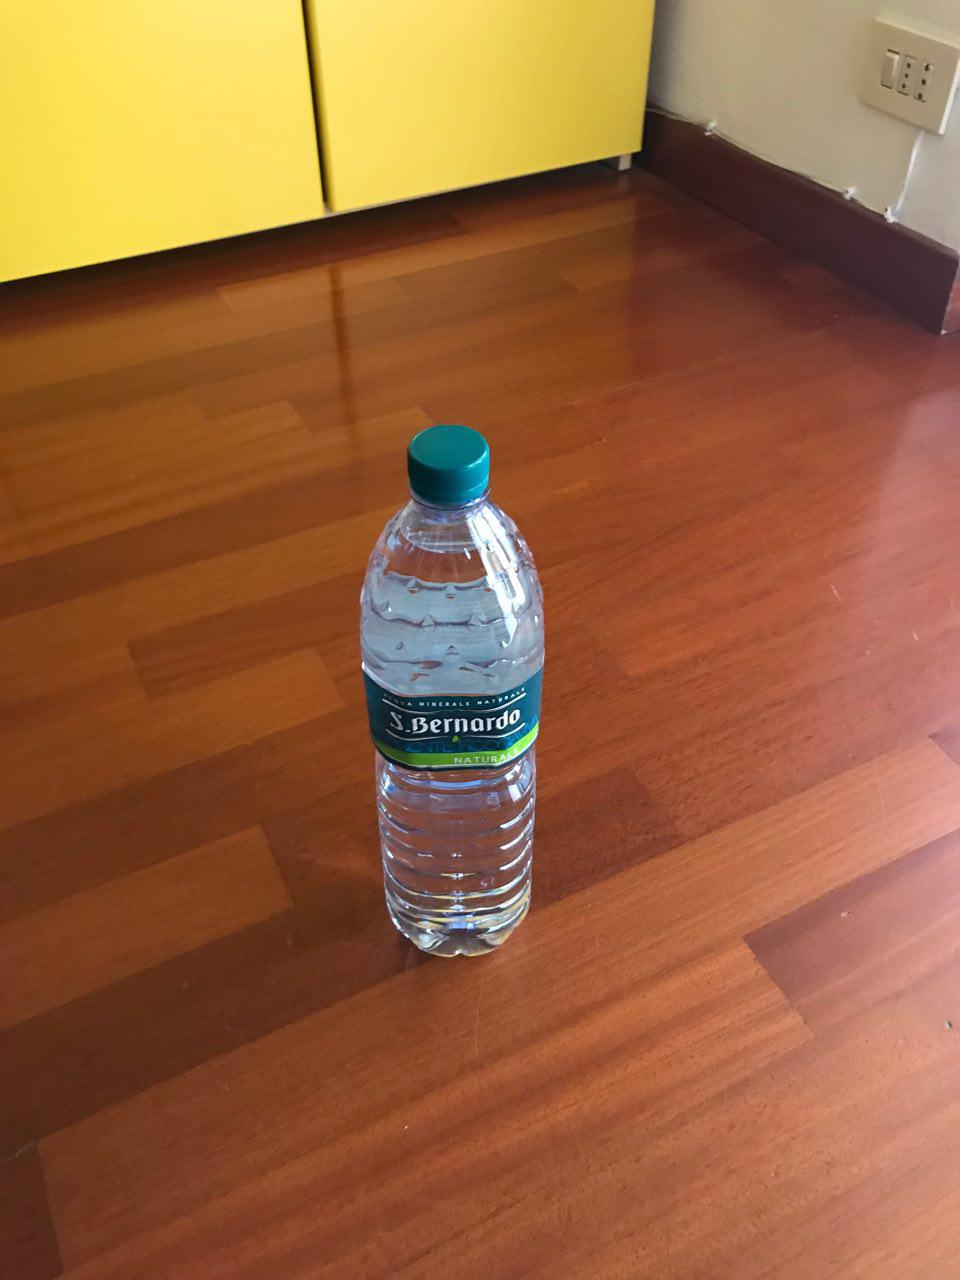san_bernardo: (357, 423, 548, 961)
